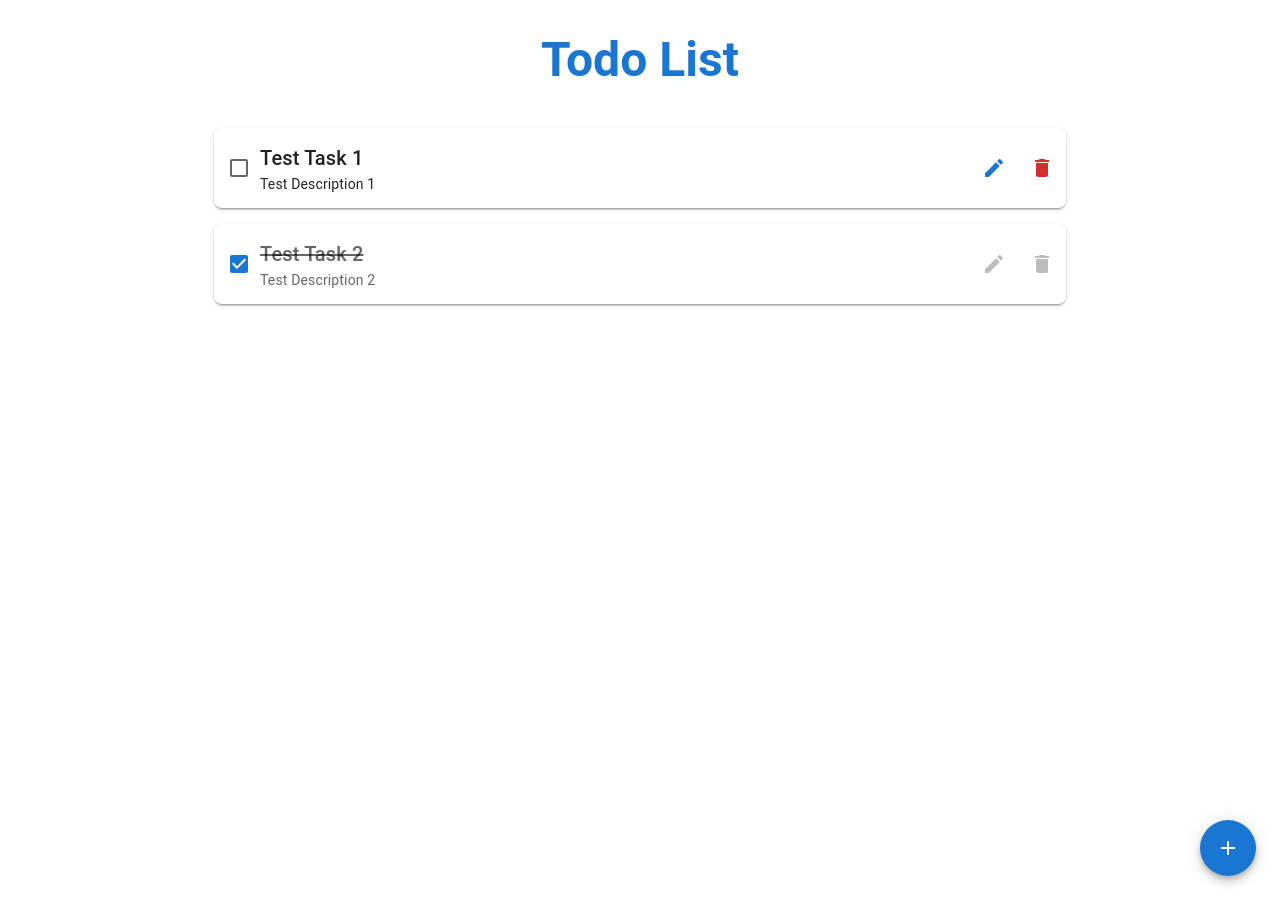
Test: TodoList Component › should delete a task successfully
The image size is (1280, 900).
Expected: the heading "Test Task 1" is shown, [260,146,364,170]
// Find and click delete button for the first task
Click the button named "delete" in the row of "Test Task 1": click(1042, 168) [1022,148,1062,188]
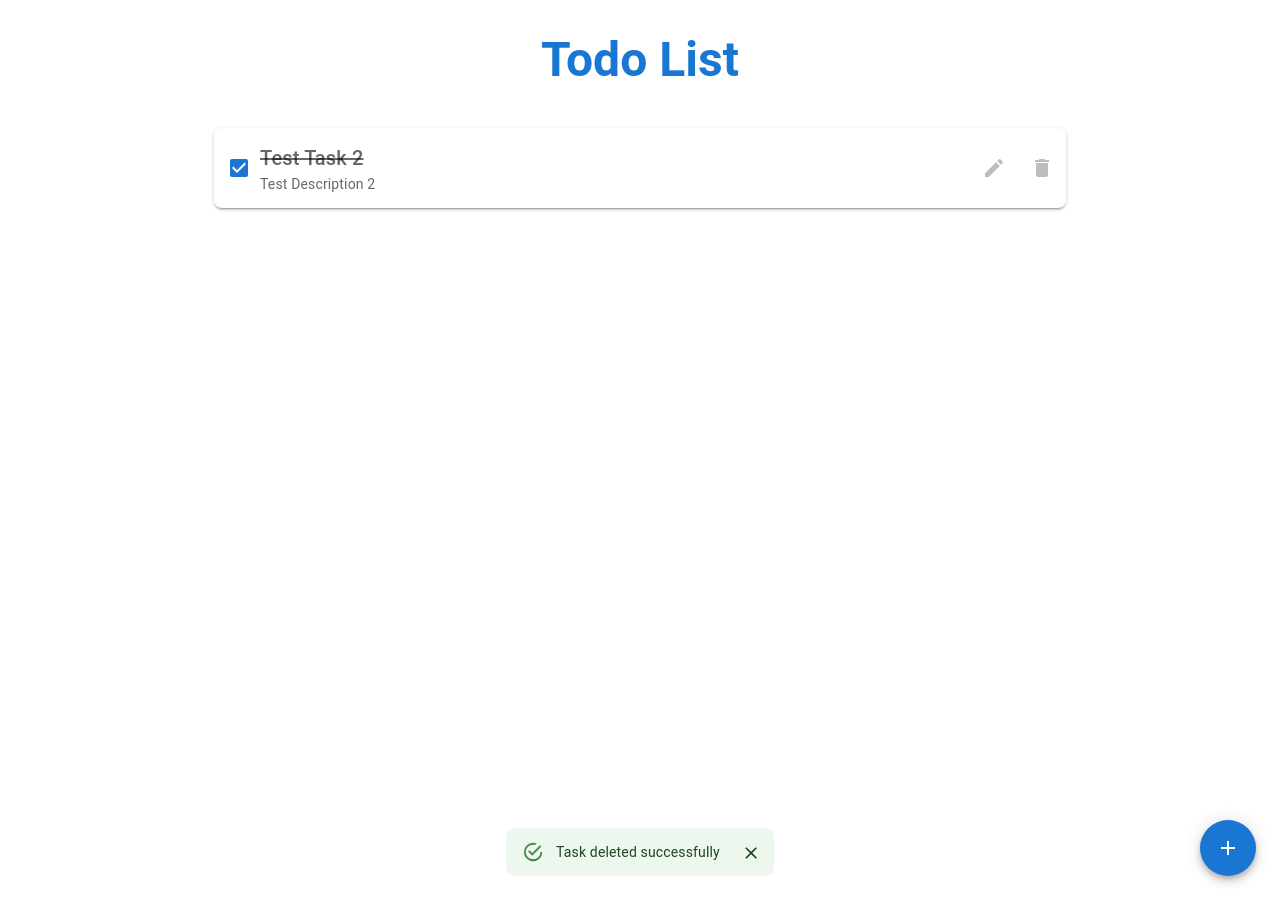
Expected: the heading "Test Task 1" is gone
